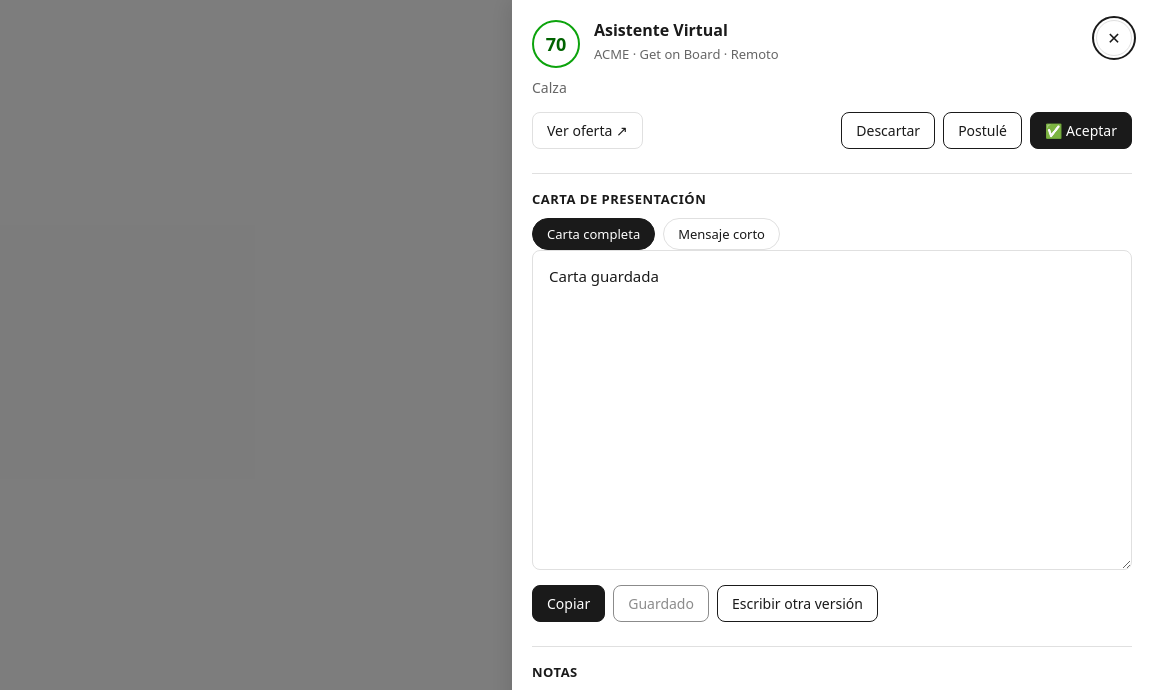
Test: DetalleOferta › con una carta editada avisa que hay cambios sin guardar
Expected: the button "Guardado" is disabled, [613, 585, 709, 622]
Type " y editada" into the text box named "Carta de presentación".
click(832, 410); type(" y editada")  # box [532, 250, 1132, 570]
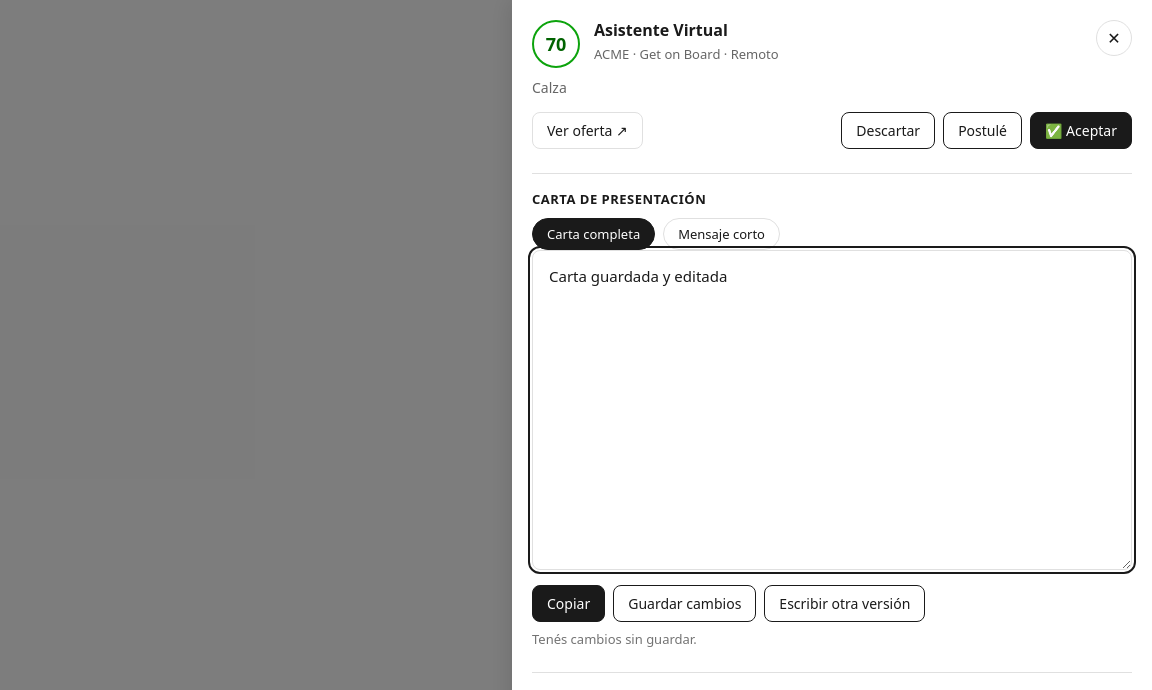
Result: the button "Guardar cambios" is enabled at [613, 585, 756, 622]
Result: the text "Tenés cambios sin guardar." is shown at [532, 630, 697, 648]
